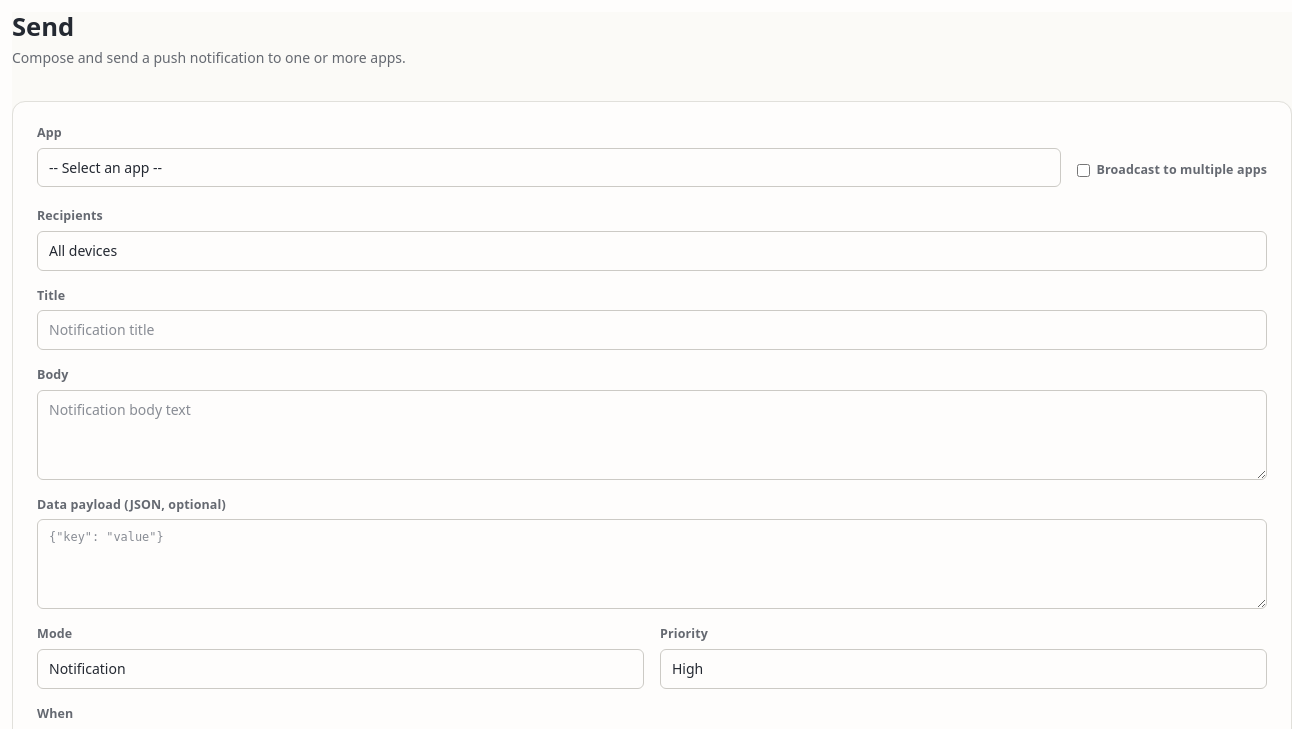
Test: send page › shows audience-select dropdown (not UUID text input) when recipients=audience is chosen
// Select an app first
Select "App Alpha" in the dropdown with test id "app-select" at [549, 168], box [37,148,1061,187]
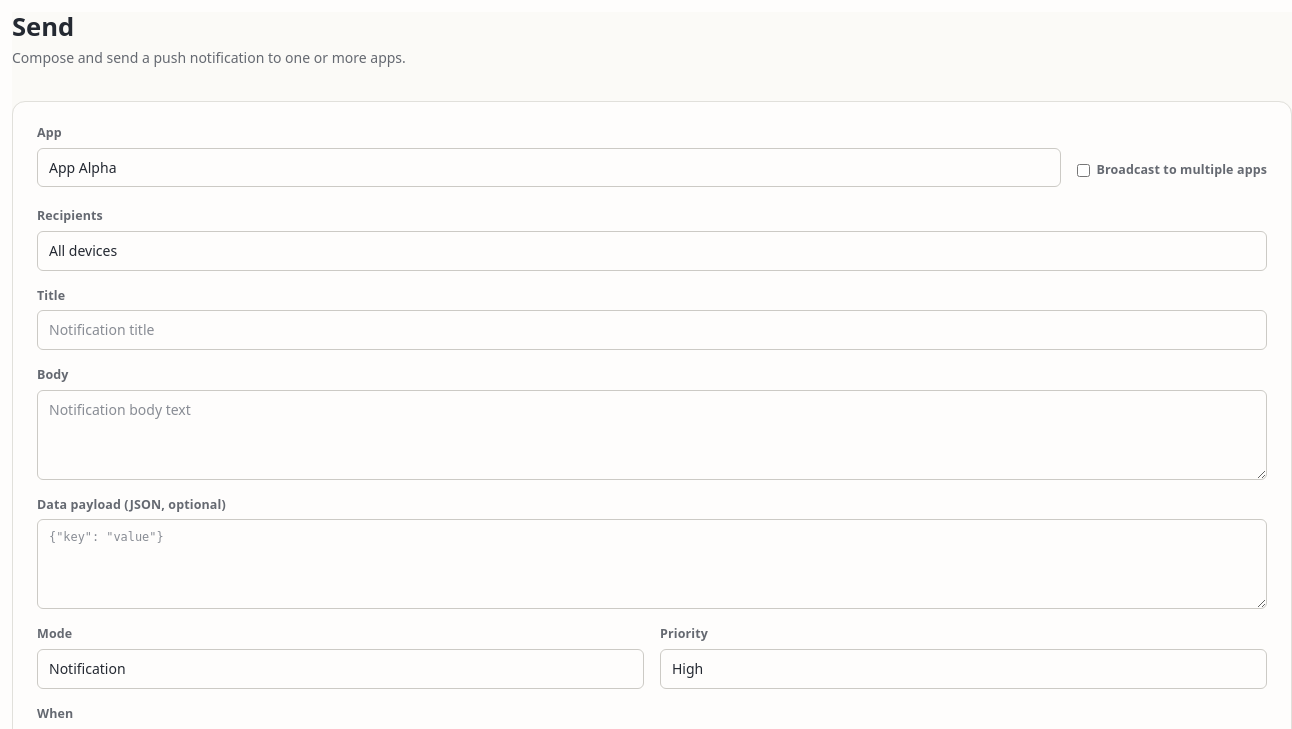
// Switch to audience mode
Select "Saved audience" in the dropdown with test id "recipients-mode" at [652, 251], box [37,231,1267,271]
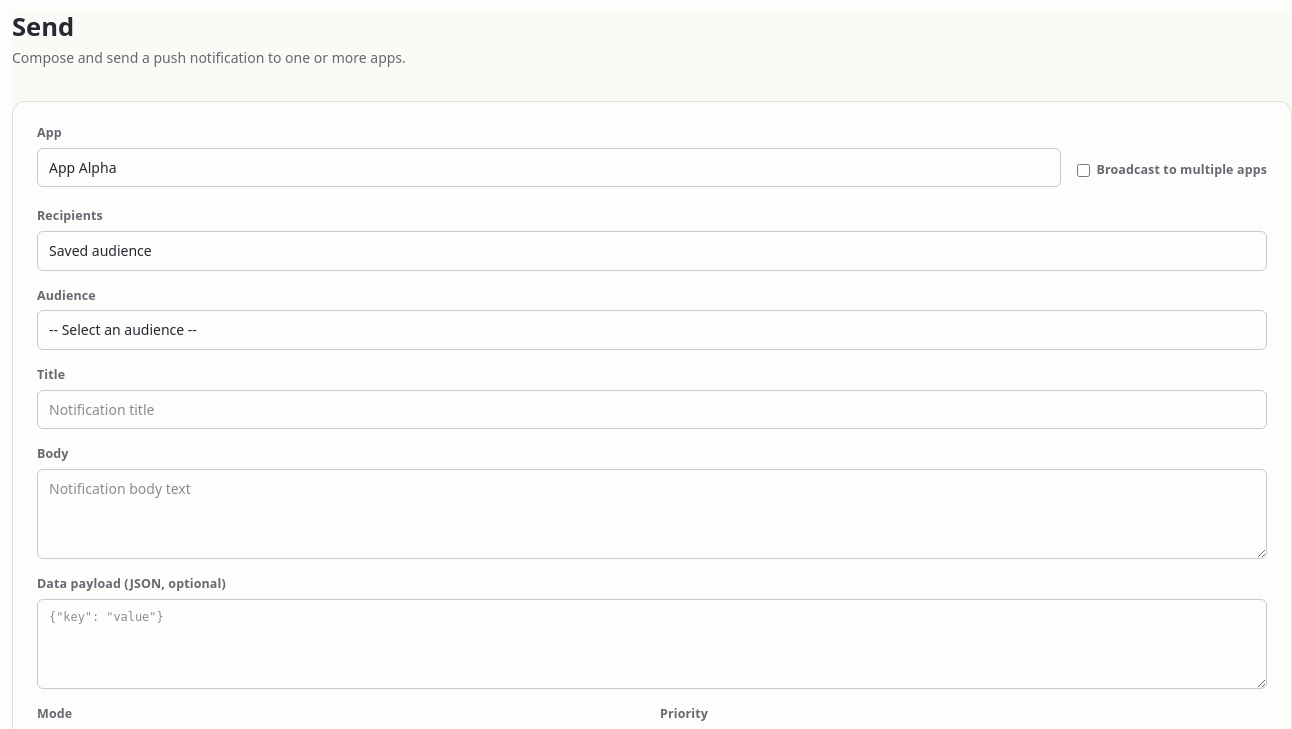
Now the dropdown with test id "audience-select" is shown, box [37,310,1267,350]
